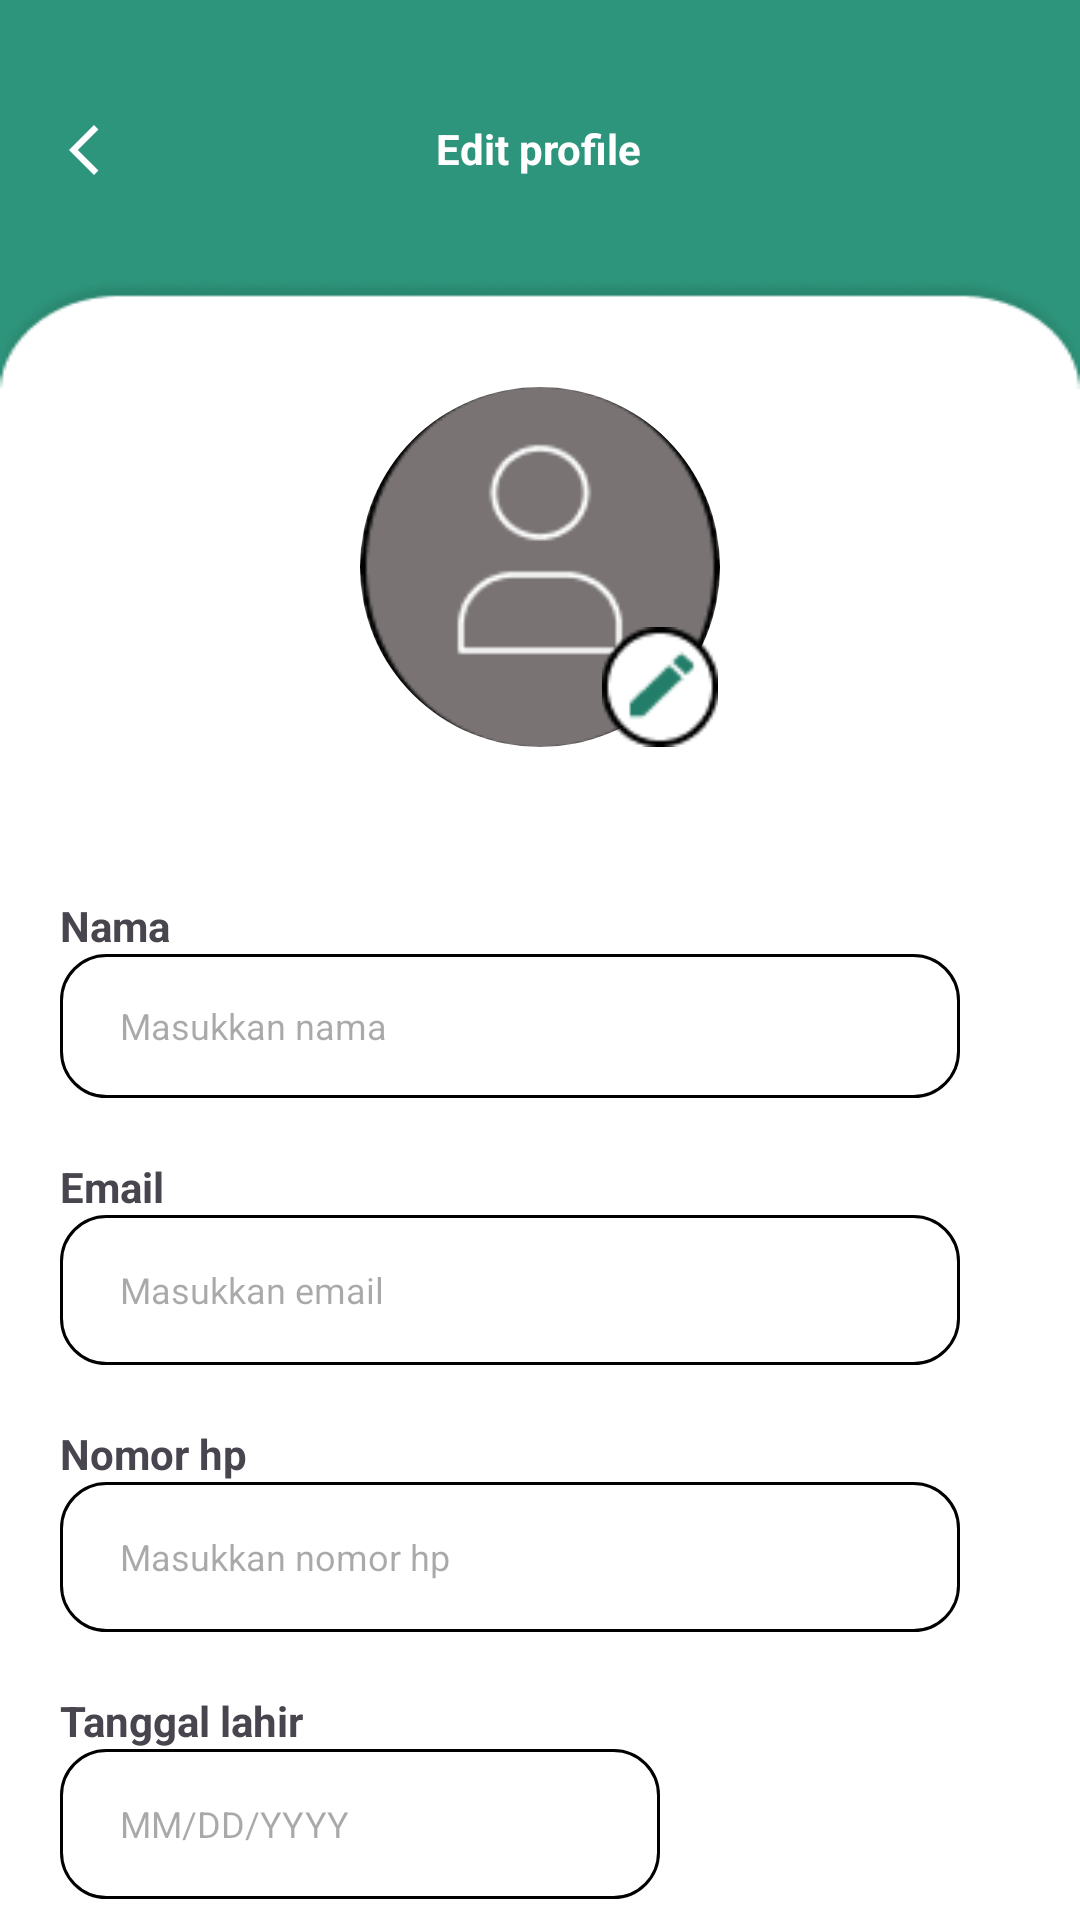

Named icons in this screenshot (1080×1920) and their bounding boxes, (x1, y1, x2, y2):
arrow back: (69, 125, 99, 175)
